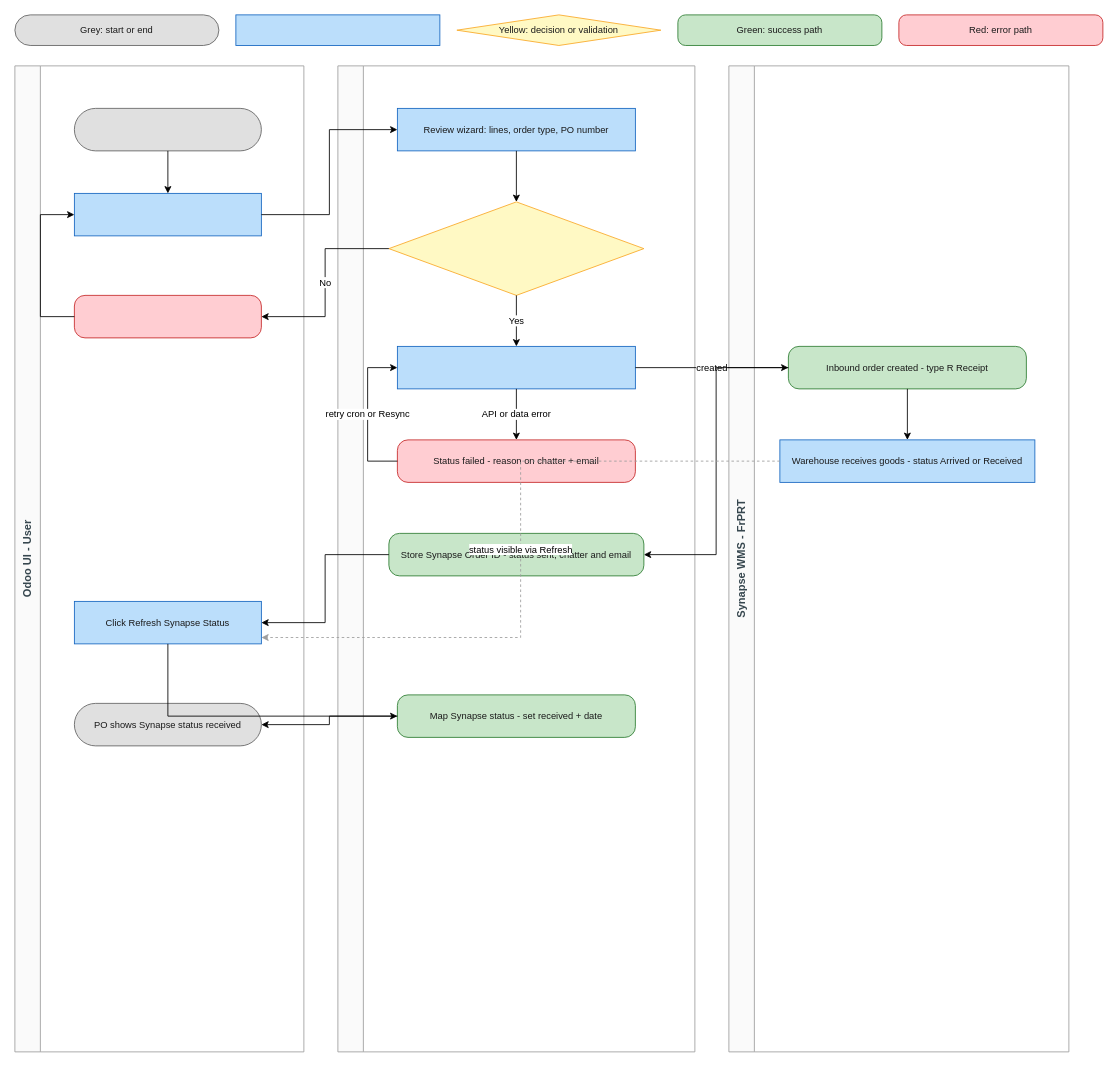
The diagram is 1118 pixels wide and 1067 high, and some of its shapes have lost their labels. Each missing label, with the box of its shape:
Blue: system or API action: (235, 14, 440, 45)
Click Send to Synapse button: (74, 193, 261, 236)
Fix data in Odoo, send again: (74, 295, 261, 338)
Odoo Backend - bha_synapse: (337, 65, 695, 1052)
PO confirmed in Odoo - state purchase: (74, 108, 261, 151)
Queue job, sent immediately: (397, 346, 635, 389)
Validations pass? confirmed PO, SKUs, whole quantities: (388, 201, 644, 295)
